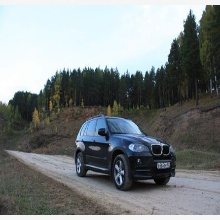no damage: (74, 115, 178, 191)
